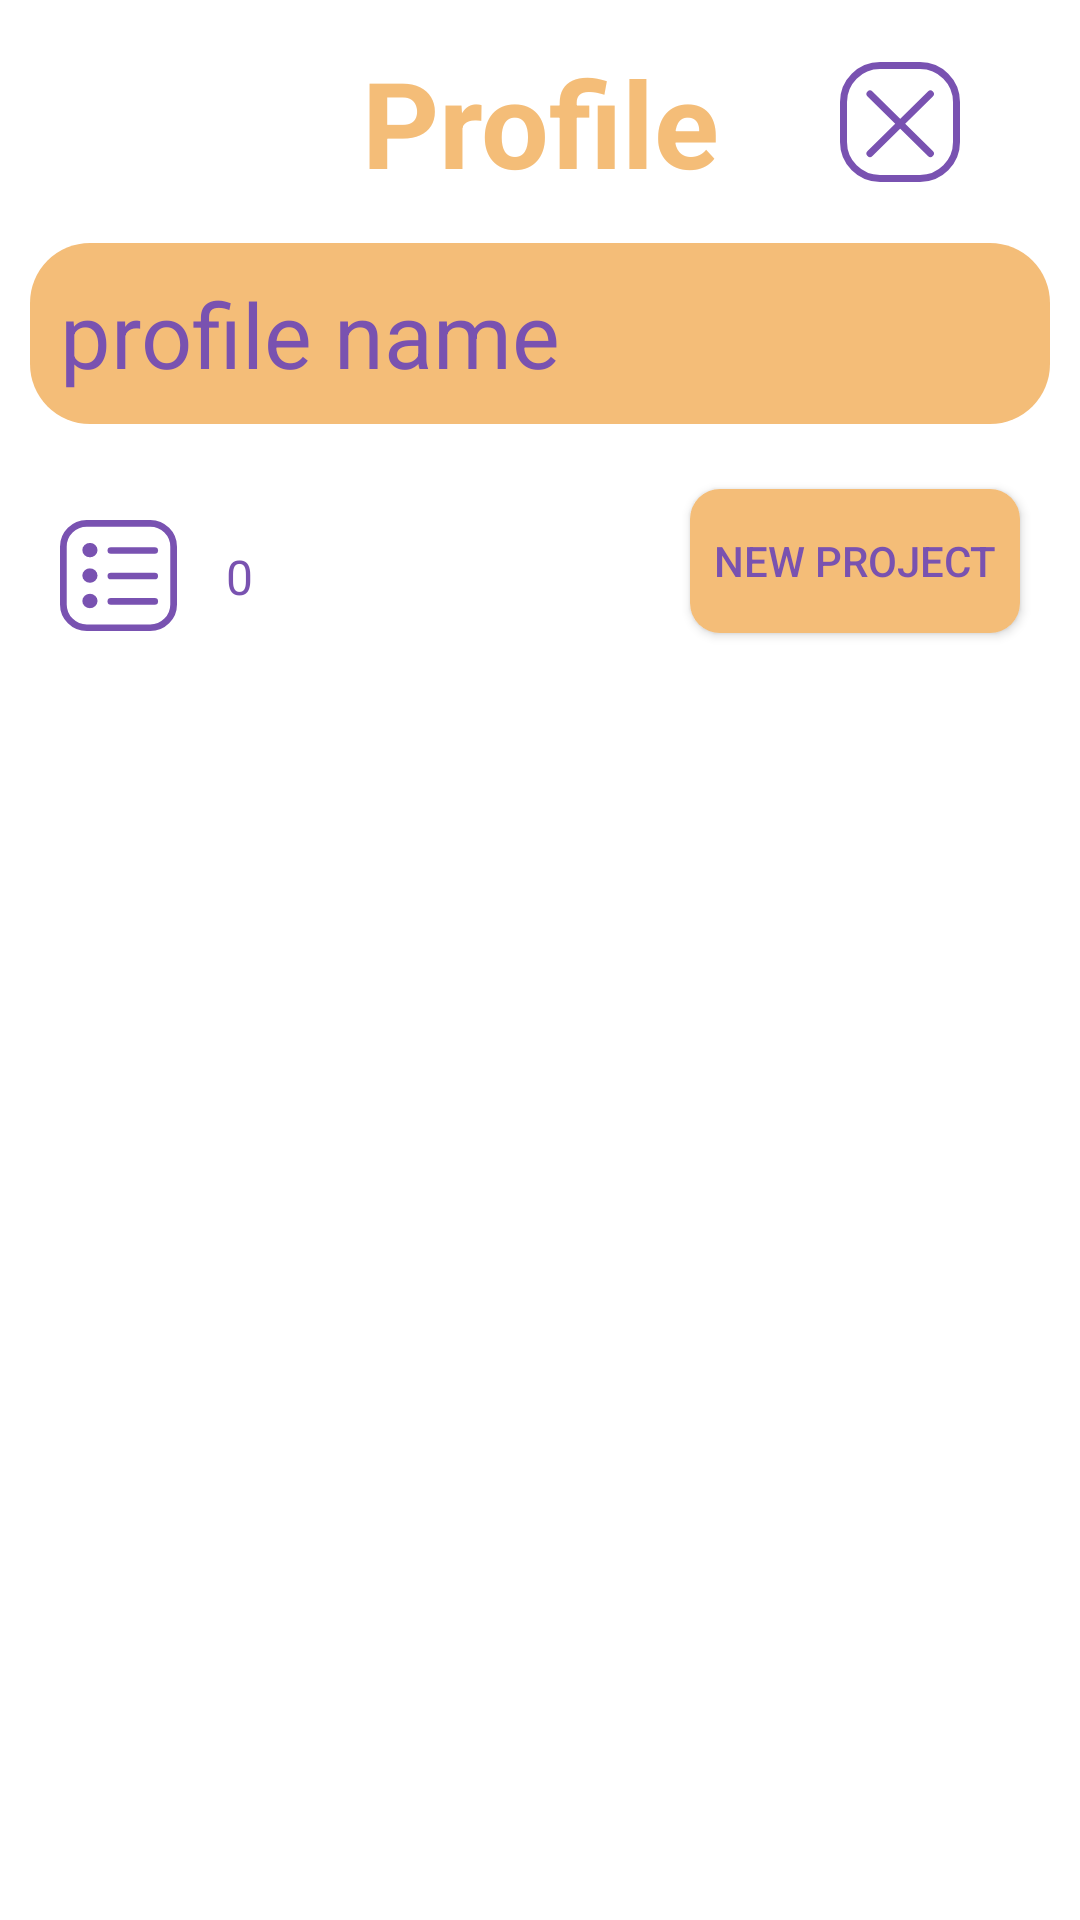

Icons on this 1080 x 1920 Android screen, each with its box as {"x1": x1, "y1": y1, "x2": x2, "y2": y2}:
quit: {"x1": 840, "y1": 62, "x2": 960, "y2": 182}
requests main: {"x1": 60, "y1": 520, "x2": 177, "y2": 631}
